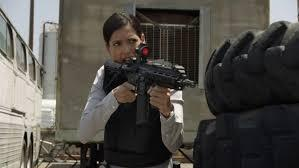rifle: (103, 41, 193, 129)
